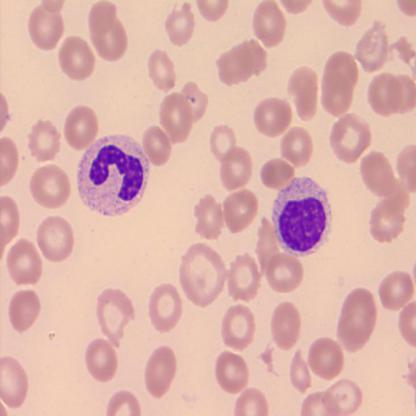Myelocyte: (74, 134, 150, 213), (269, 178, 333, 258)
